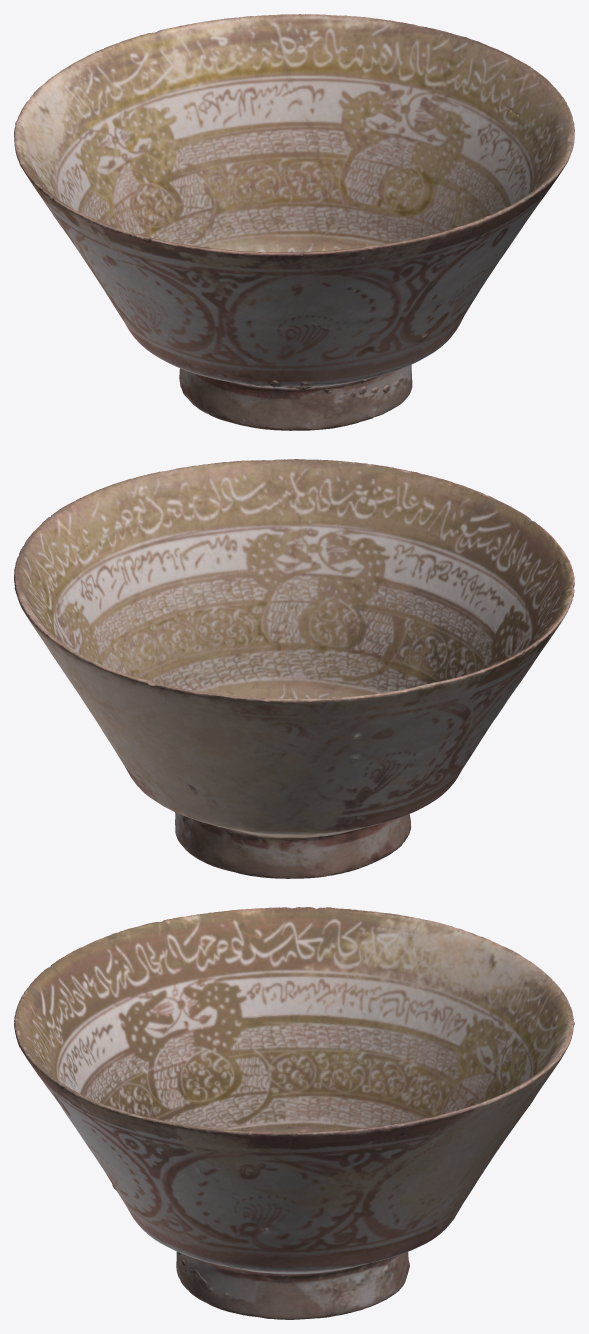
File: BowlWithDragons.glb
3 renders of one model, top to bottom at view 1: azimuth 30°, elevation 25°; view 2: azimuth 150°, elevation 25°; view 3: azimuth 270°, elevation 25°, orthographic.
Parts seen in each view (by area): view 1: ADVIMG_61_40_DragonBowl_10M_ADVIMG_61_40_DragonBowl_10M_u1_v; view 2: ADVIMG_61_40_DragonBowl_10M_ADVIMG_61_40_DragonBowl_10M_u1_v; view 3: ADVIMG_61_40_DragonBowl_10M_ADVIMG_61_40_DragonBowl_10M_u1_v.
Boxes of the visible parts, x1,y1,x2,y2 form: ADVIMG_61_40_DragonBowl_10M_ADVIMG_61_40_DragonBowl_10M_u1_v: (14, 14, 574, 430); ADVIMG_61_40_DragonBowl_10M_ADVIMG_61_40_DragonBowl_10M_u1_v: (14, 459, 574, 878); ADVIMG_61_40_DragonBowl_10M_ADVIMG_61_40_DragonBowl_10M_u1_v: (14, 907, 574, 1319).
Bounding box in the file's own units: 0.214 × 0.109 × 0.2151.
1 material, 1 textured.
